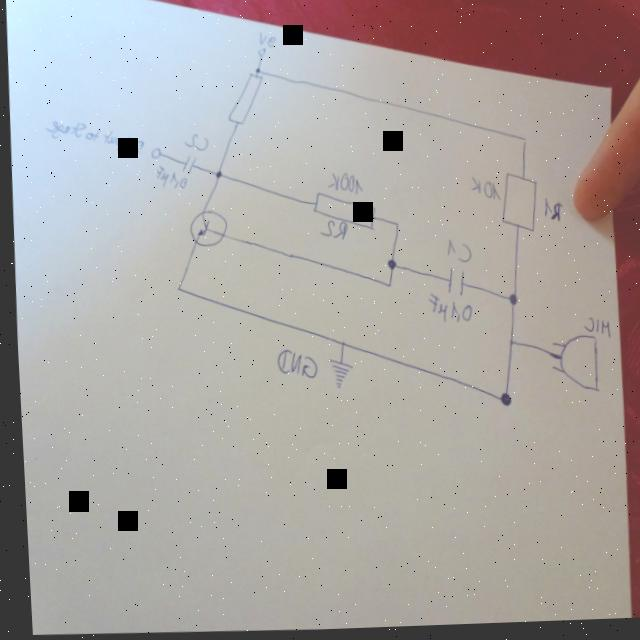capacitor: (442, 268, 464, 301), (177, 156, 195, 174)
ground: (322, 358, 351, 391)
junction: (493, 391, 510, 411), (504, 293, 516, 311), (172, 280, 184, 296), (384, 259, 396, 273), (212, 168, 223, 181), (390, 220, 399, 230), (504, 340, 512, 351), (519, 138, 527, 148), (383, 282, 390, 292), (336, 341, 342, 351), (254, 67, 260, 75)
resistor: (310, 190, 375, 235), (497, 174, 538, 236), (224, 73, 265, 127)
terminal: (149, 147, 161, 159), (257, 48, 266, 59)
text: (43, 114, 144, 155), (423, 293, 471, 329), (272, 348, 315, 384), (324, 172, 362, 198), (467, 177, 500, 206), (153, 164, 186, 192), (316, 219, 347, 243), (441, 240, 469, 266), (579, 319, 608, 344), (539, 200, 561, 227), (182, 131, 208, 152), (257, 32, 276, 50)
transistor: (184, 208, 228, 249)
